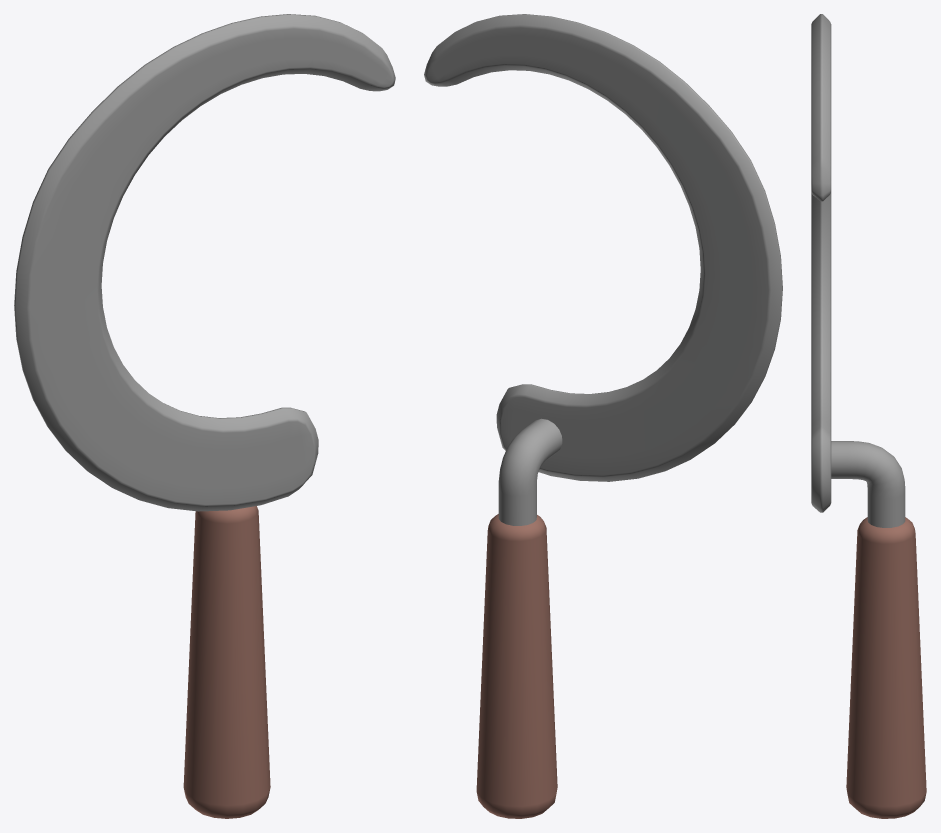
Rendered from Farm_20_Sikle_1.glb.
3 views of the same model, side by side, from view 1: azimuth 30°, elevation 25°; view 2: azimuth 150°, elevation 25°; view 3: azimuth 270°, elevation 25° (orthographic). The views are drawn at different scales.
Visible parts, largest first — view 1: Farm_20_Sikle_1; view 2: Farm_20_Sikle_1; view 3: Farm_20_Sikle_1.
Part boxes in pixels (x1,y1,x2,y2): Farm_20_Sikle_1: [14, 14, 395, 818]; Farm_20_Sikle_1: [424, 14, 782, 818]; Farm_20_Sikle_1: [811, 14, 926, 818].
Size of the model in its own units: 0.406 by 0.8334 by 0.1145.
Materials: 1 (1 with a texture image).
